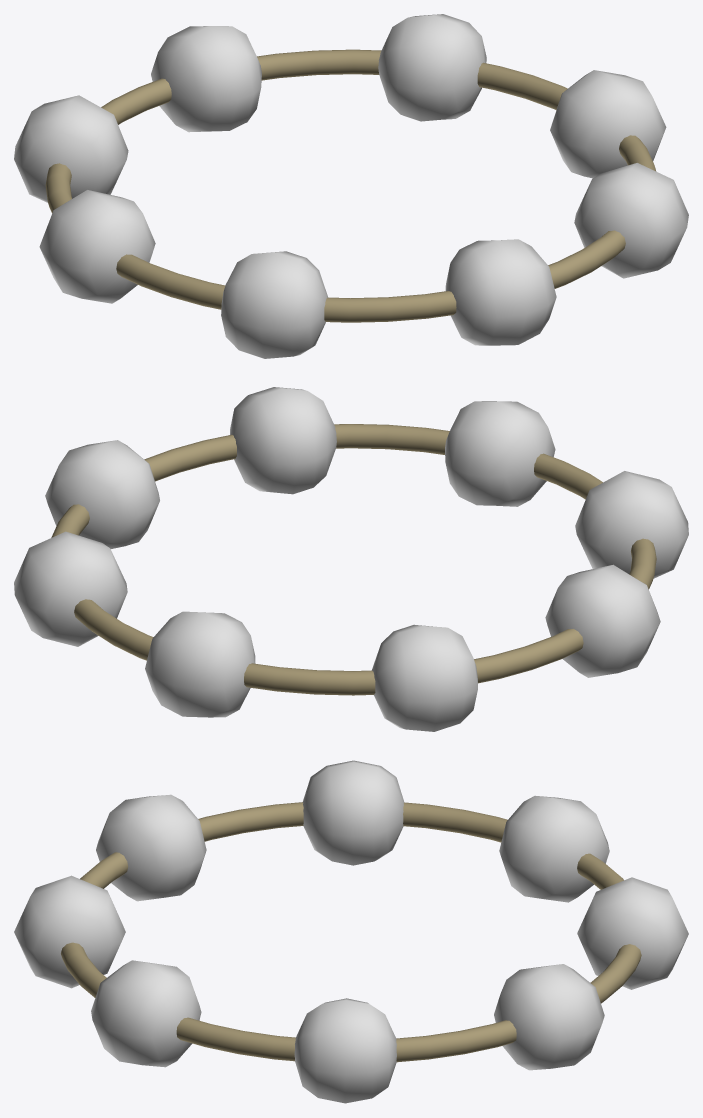
File: beads_beadRing.fbx
3 views of the same model, one above another, from view 1: azimuth 30°, elevation 25°; view 2: azimuth 150°, elevation 25°; view 3: azimuth 270°, elevation 25° (orthographic). The views are drawn at different scales.
Parts seen in each view (by area): view 1: Sphere.001, beadRing; view 2: Sphere.001, beadRing; view 3: Sphere.001, beadRing.
Part boxes in pixels (bbox=[...]): Sphere.001: bbox=[14, 14, 688, 358]; beadRing: bbox=[45, 49, 656, 322]; Sphere.001: bbox=[14, 387, 688, 731]; beadRing: bbox=[51, 424, 656, 695]; Sphere.001: bbox=[14, 760, 688, 1103]; beadRing: bbox=[61, 802, 641, 1062].
Size of the model in its own units: 51.98 by 8.62 by 52.
